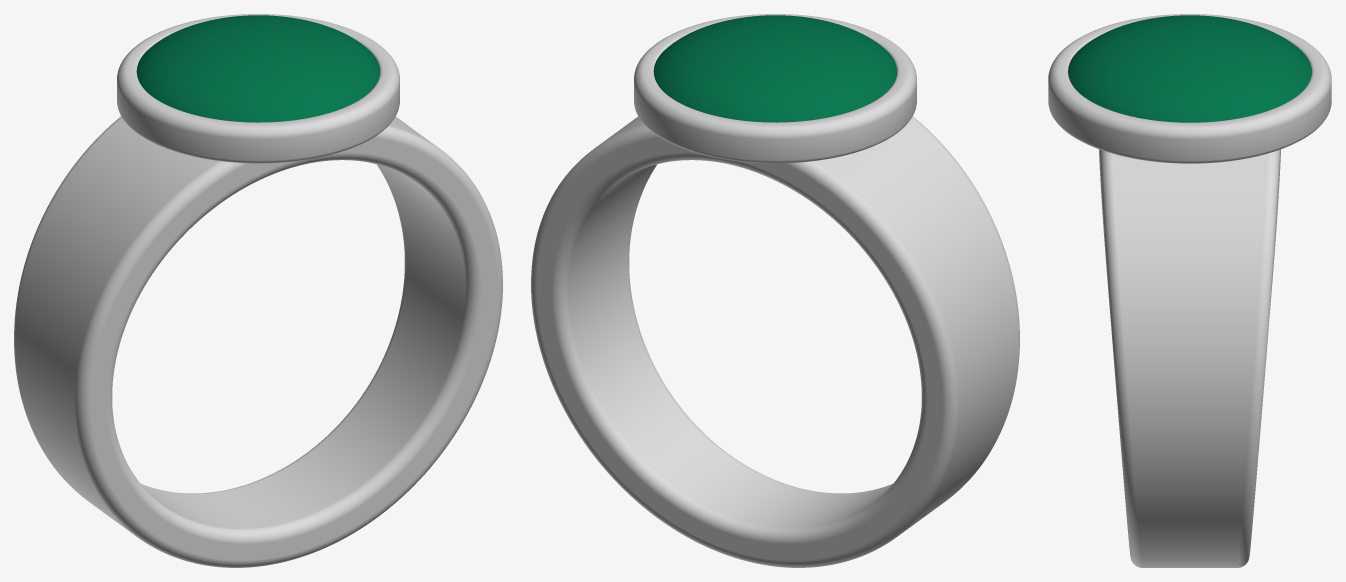
Rendered from ring_unity.fbx.
3 views of the same model, side by side, from view 1: azimuth 30°, elevation 25°; view 2: azimuth 150°, elevation 25°; view 3: azimuth 270°, elevation 25° (orthographic).
Parts seen in each view (by area): view 1: Ringschiene, Stein, Fassung; view 2: Ringschiene, Stein, Fassung; view 3: Ringschiene, Stein, Fassung.
Boxes of the visible parts, x1,y1,x2,y2 form: Ringschiene: (14,116,502,567); Stein: (136,15,380,122); Fassung: (117,14,399,163); Ringschiene: (531,116,1019,567); Stein: (653,15,897,122); Fassung: (634,14,916,163); Ringschiene: (1099,149,1280,567); Stein: (1068,15,1311,122); Fassung: (1048,14,1331,163).
Size of the model in its own units: 2.26 by 2.55 by 1.3.
